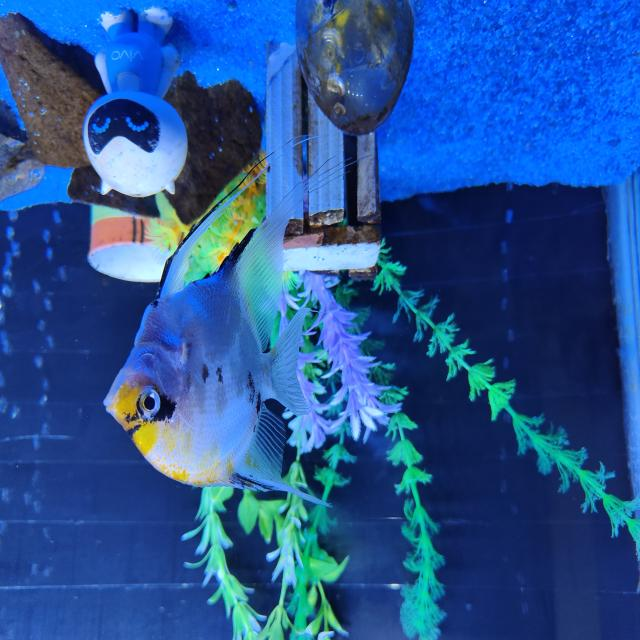Fish: (104, 181, 323, 503)
